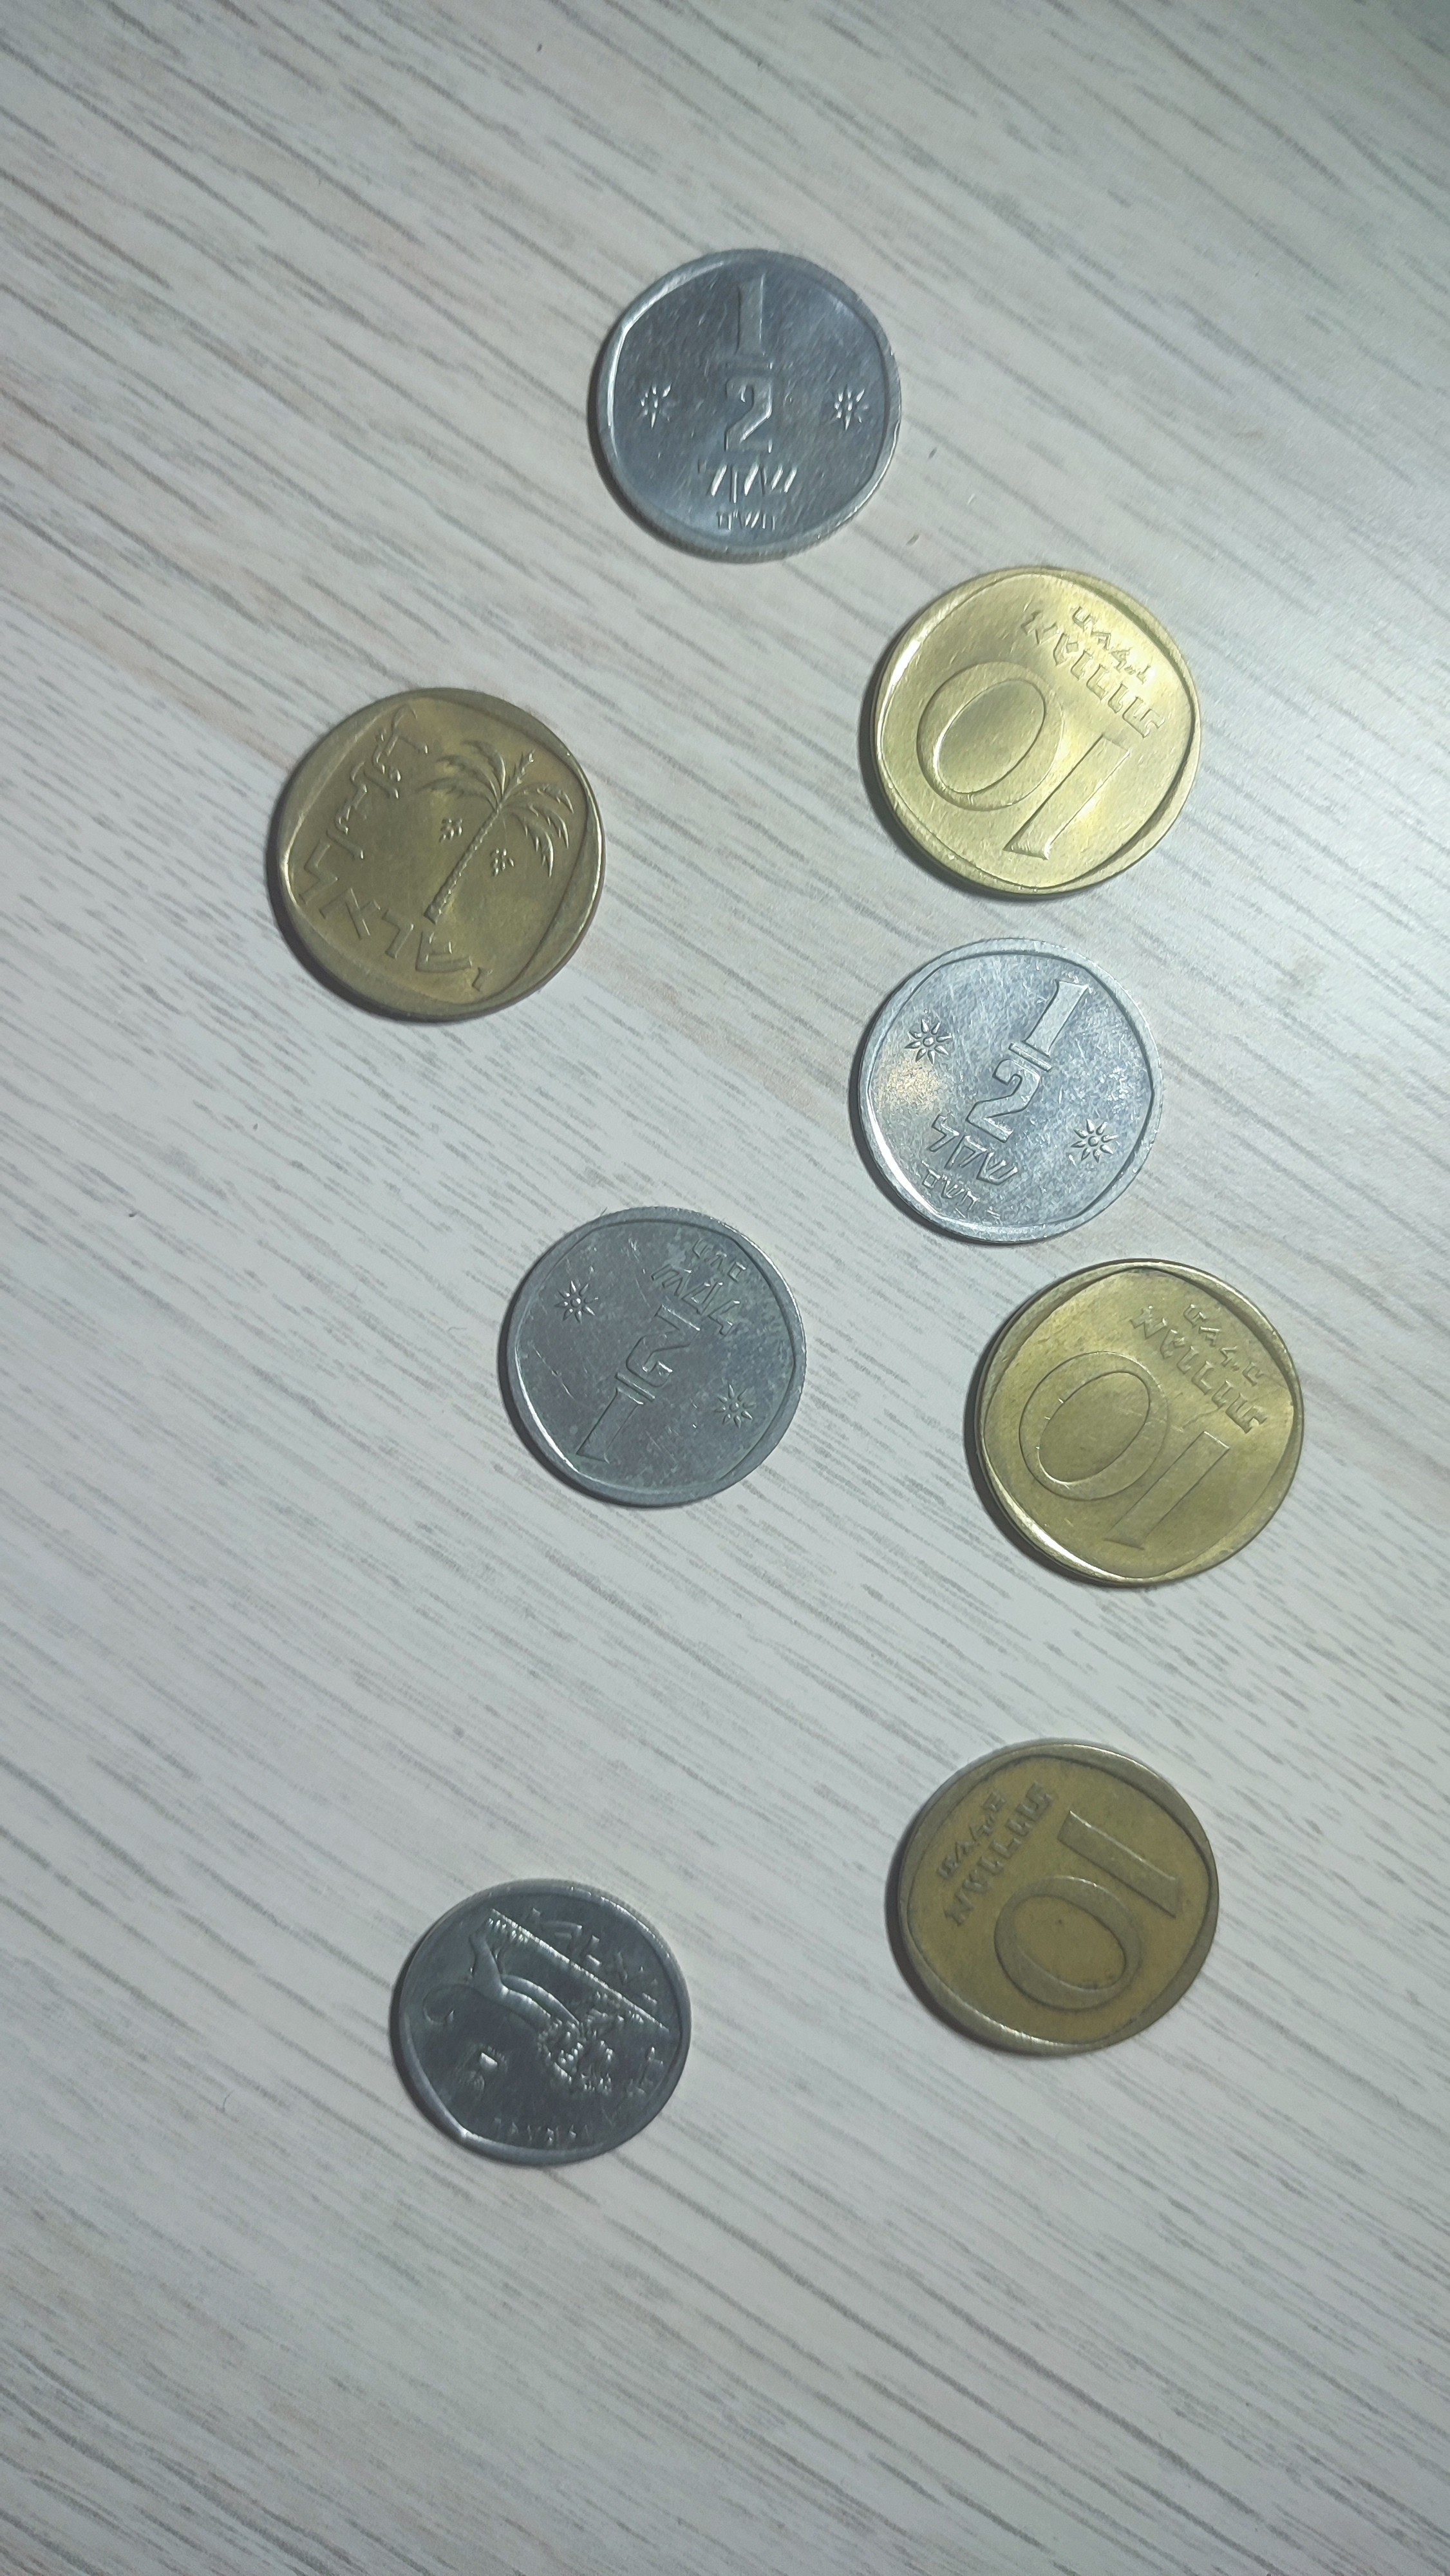1/2 old sheqel: (580, 241, 907, 568), (845, 931, 1167, 1253), (492, 1201, 815, 1516), (377, 1870, 704, 2176)
10 old agora brown: (957, 1251, 1312, 1603), (256, 683, 608, 1033), (856, 561, 1208, 909), (874, 1734, 1229, 2068)
